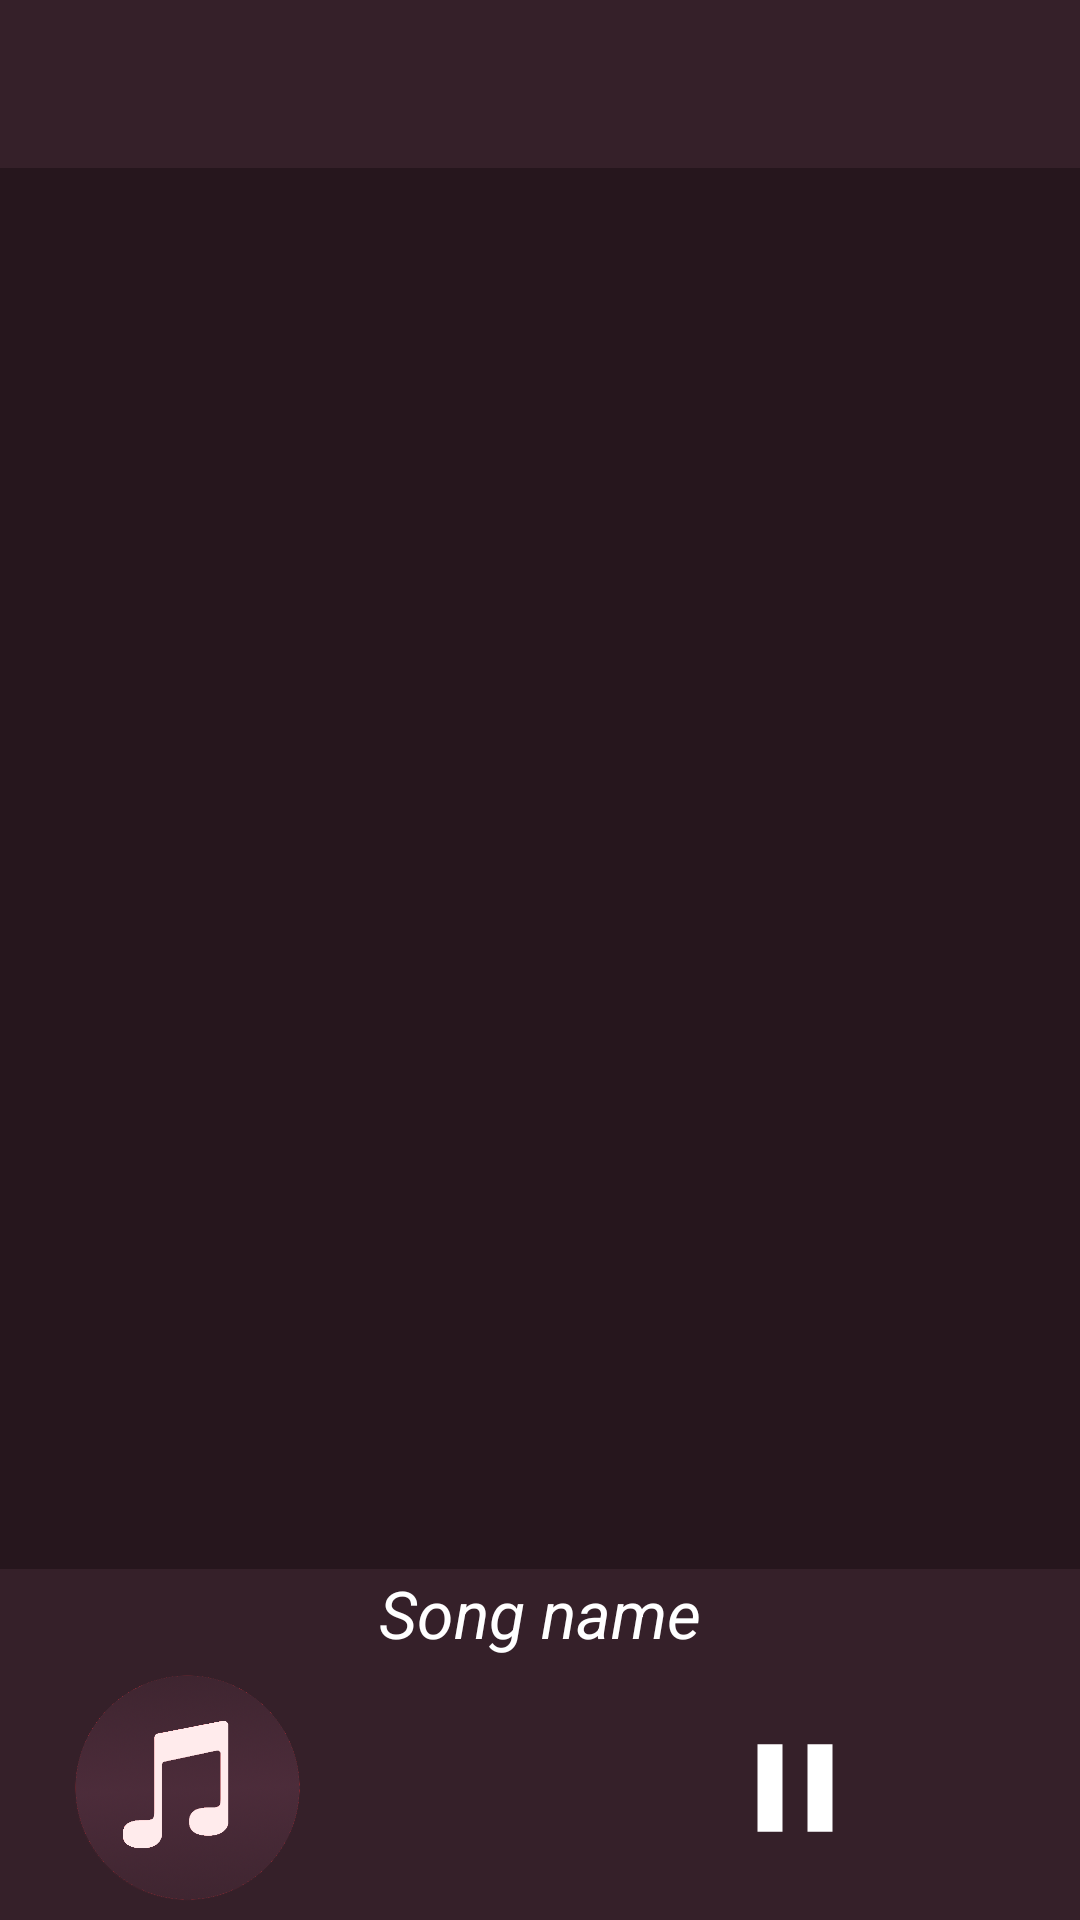

Where icons sit on this 1080px×1920px app screen, as (x1, y1, x2, y2):
music: (75, 1675, 300, 1900)
pause: (757, 1744, 833, 1832)
